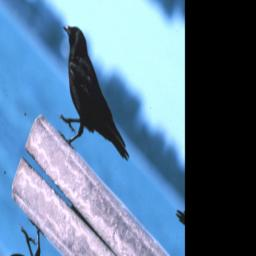Crow: (33, 11, 150, 200)
